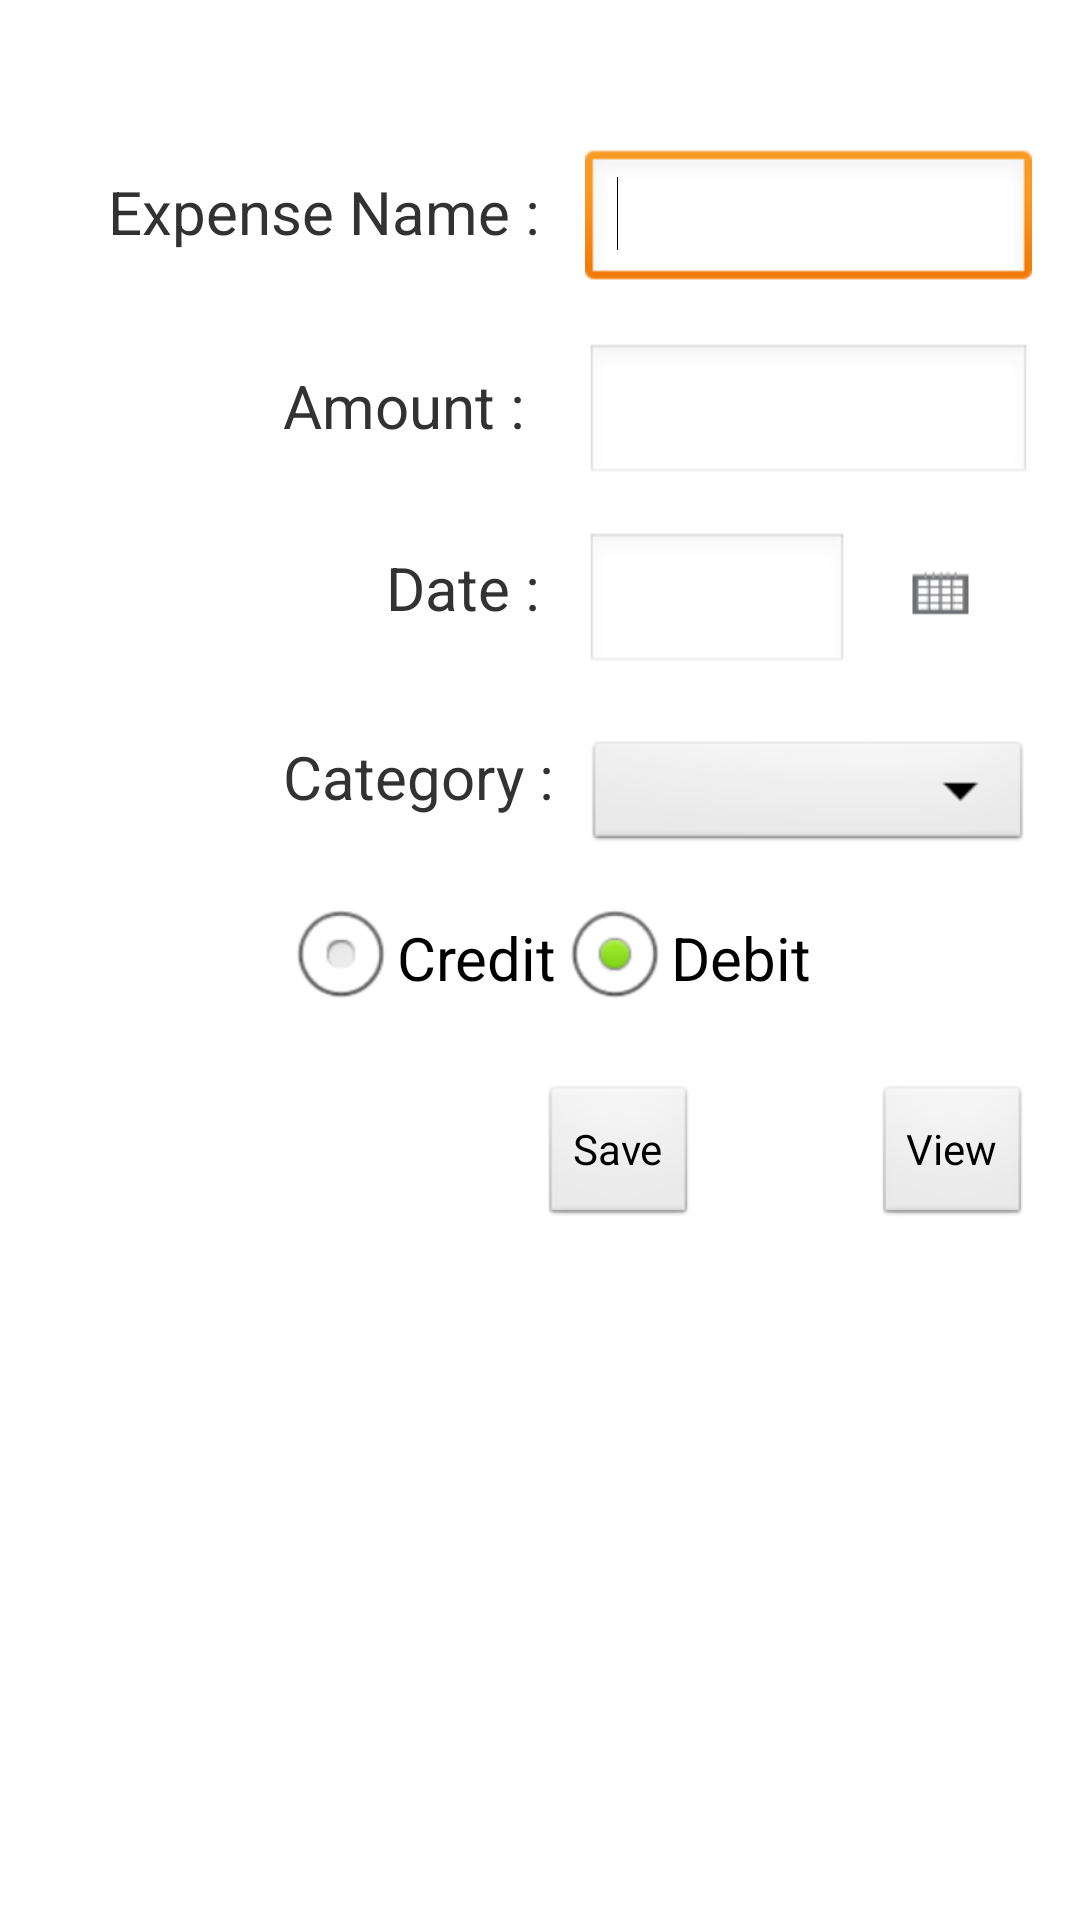

Screen size 1080px x 1920px. Icon name, then its center in pixels as [x,y]:
calendar: [940,593]
